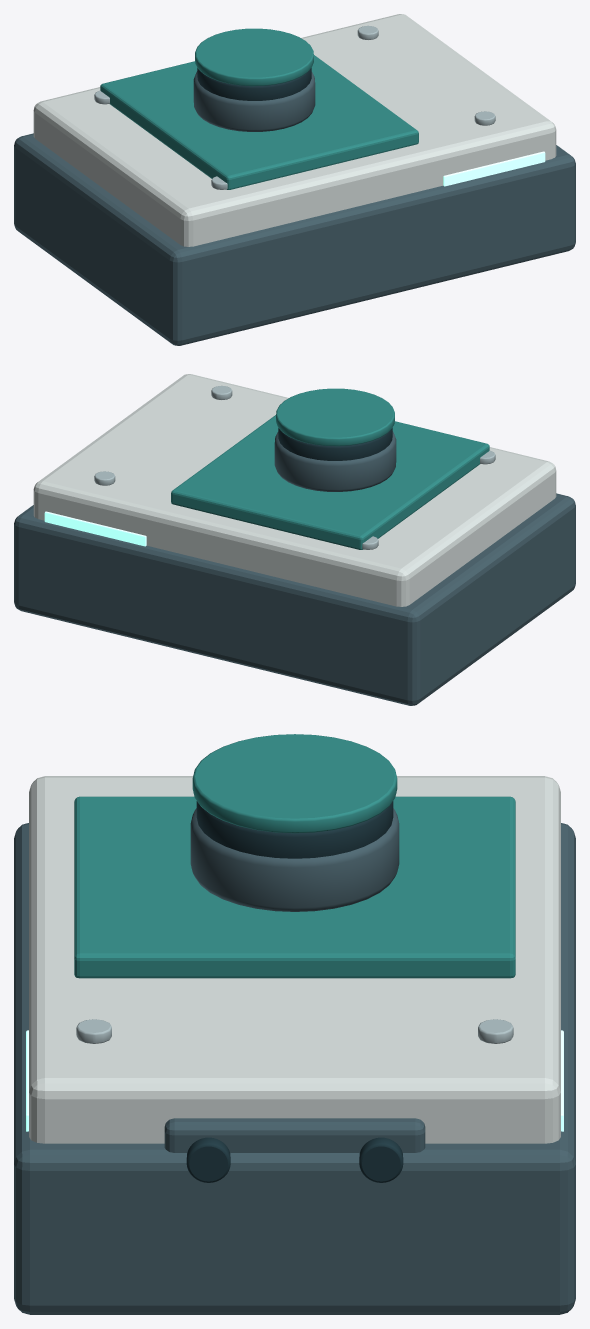
The model's file is rover-chassis.glb.
3 views of the same model, one above another, from view 1: azimuth 30°, elevation 25°; view 2: azimuth 150°, elevation 25°; view 3: azimuth 270°, elevation 25° (orthographic). The views are drawn at different scales.
Visible parts, largest first — view 1: Rover lower chassis.014, Rover ivory shell.004, Service deck.004, Lidar window.004, Status strip.005, Deck fastener.007; view 2: Rover lower chassis.014, Rover ivory shell.004, Service deck.004, Lidar window.004, Status strip.005, Deck fastener.007; view 3: Rover lower chassis.014, Rover ivory shell.004, Service deck.004, Lidar window.004, Deck fastener.007.
Part boxes in pixels (left/top/right/bottom): Rover lower chassis.014: left=14, top=71, right=575, bottom=345; Rover ivory shell.004: left=33, top=14, right=556, bottom=246; Service deck.004: left=100, top=28, right=418, bottom=189; Lidar window.004: left=197, top=68, right=311, bottom=100; Status strip.005: left=443, top=151, right=545, bottom=186; Deck fastener.007: left=94, top=25, right=495, bottom=189; Rover lower chassis.014: left=14, top=431, right=575, bottom=705; Rover ivory shell.004: left=33, top=374, right=556, bottom=606; Service deck.004: left=171, top=388, right=489, bottom=549; Lidar window.004: left=278, top=428, right=392, bottom=460; Status strip.005: left=44, top=511, right=146, bottom=546; Deck fastener.007: left=94, top=385, right=495, bottom=549; Rover lower chassis.014: left=14, top=808, right=575, bottom=1314; Rover ivory shell.004: left=29, top=776, right=560, bottom=1143; Service deck.004: left=74, top=734, right=515, bottom=978; Lidar window.004: left=186, top=801, right=403, bottom=1182; Deck fastener.007: left=76, top=1019, right=513, bottom=1043.
Size of the model in its own units: 0.4025 by 0.187 by 0.28.
